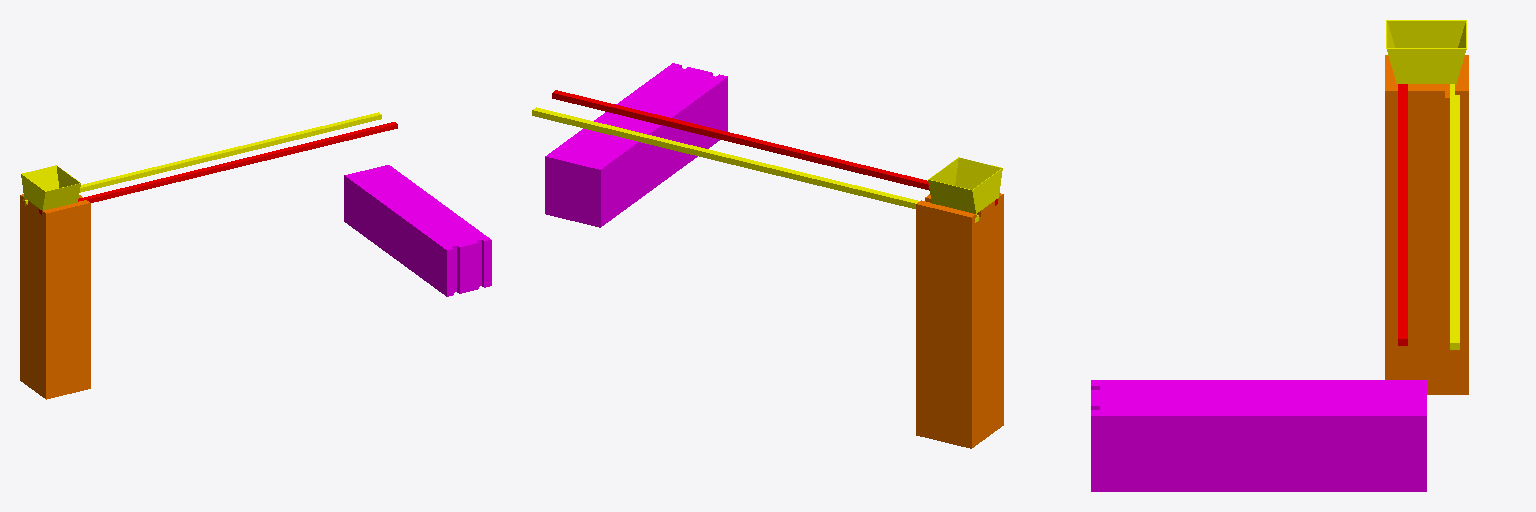
robot.urdf — cart_pendulum:
<?xml version="1.0" ?>
<robot name="cart_pendulum">
  <link name="mount_rail_2_1">
    <visual name="mount_rail_2_1_visual">
      <origin xyz="0 0 0" rpy="0 0 0"/>
      <geometry>
        <mesh filename="meshes/mount_rail_2_1.stl"/>
      </geometry>
      <material name="mount_rail_2_1-material">
        <color rgba="1 0 1 1"/>
      </material>
    </visual>
    <collision name="mount_rail_2_1_collision">
      <origin xyz="0 0 0" rpy="0 0 0"/>
      <geometry>
        <mesh filename="meshes/mount_rail_2_1.stl"/>
      </geometry>
    </collision>
    <inertial>
      <mass value="487.68125"/>
      <inertia ixx="42.722133" iyy="42.721446" izz="5.0806999" ixy="-1.1040928e-15" ixz="0" iyz="-1.5256723e-16"/>
      <origin xyz="0 0 0" rpy="0 0 0"/>
    </inertial>
  </link>
  <link name="rail_1_1">
    <visual name="rail_1_1_visual">
      <origin xyz="0 0 0" rpy="0 0 0"/>
      <geometry>
        <mesh filename="meshes/rail_1_1.stl"/>
      </geometry>
      <material name="rail_1_1-material">
        <color rgba="1 1 0 1"/>
      </material>
    </visual>
    <collision name="rail_1_1_collision">
      <origin xyz="0 0 0" rpy="0 0 0"/>
      <geometry>
        <mesh filename="meshes/rail_1_1.stl"/>
      </geometry>
    </collision>
    <inertial>
      <mass value="4.08"/>
      <inertia ixx="0.0005185" iyy="1.360306" izz="1.3602125" ixy="0" ixz="0" iyz="0"/>
      <origin xyz="-1 0.0125 0" rpy="0 0 0"/>
    </inertial>
  </link>
  <link name="rail_1_2">
    <visual name="rail_1_2_visual">
      <origin xyz="0 0 0" rpy="0 0 0"/>
      <geometry>
        <mesh filename="meshes/rail_1_2.stl"/>
      </geometry>
      <material name="rail_1_2-material">
        <color rgba="1 0 0 1"/>
      </material>
    </visual>
    <collision name="rail_1_2_collision">
      <origin xyz="0 0 0" rpy="0 0 0"/>
      <geometry>
        <mesh filename="meshes/rail_1_2.stl"/>
      </geometry>
    </collision>
    <inertial>
      <mass value="4.08"/>
      <inertia ixx="1.3602125" iyy="1.360306" izz="0.0005185" ixy="0" ixz="0" iyz="0"/>
      <origin xyz="0 0.0125 -1" rpy="0 0 0"/>
    </inertial>
  </link>
  <link name="mount_rail_2_2">
    <visual name="mount_rail_2_2_visual">
      <origin xyz="0 0 0" rpy="0 0 0"/>
      <geometry>
        <mesh filename="meshes/mount_rail_2_2.stl"/>
      </geometry>
      <material name="mount_rail_2_2-material">
        <color rgba="1 0.5 0 1"/>
      </material>
    </visual>
    <collision name="mount_rail_2_2_collision">
      <origin xyz="0 0 0" rpy="0 0 0"/>
      <geometry>
        <mesh filename="meshes/mount_rail_2_2.stl"/>
      </geometry>
    </collision>
    <inertial>
      <mass value="487.68125"/>
      <inertia ixx="42.721446" iyy="5.0806999" izz="42.722133" ixy="1.5256723e-16" ixz="1.1040928e-15" iyz="0"/>
      <origin xyz="0.07 0.47794266 -0.125" rpy="0 0 0"/>
    </inertial>
  </link>
  <link name="cart_2">
    <visual name="cart_2_visual">
      <origin xyz="0 0 0" rpy="0 0 0"/>
      <geometry>
        <mesh filename="meshes/cart_2.stl"/>
      </geometry>
      <material name="cart_2-material">
        <color rgba="1 1 0 1"/>
      </material>
    </visual>
    <collision name="cart_2_collision">
      <origin xyz="0 0 0" rpy="0 0 0"/>
      <geometry>
        <mesh filename="meshes/cart_2.stl"/>
      </geometry>
    </collision>
    <inertial>
      <mass value="1.3341545"/>
      <inertia ixx="0.009385059" iyy="0.01156555" izz="0.009245384" ixy="0" ixz="0" iyz="0"/>
      <origin xyz="0.07 -0.013772027 -0.1" rpy="0 0 0"/>
    </inertial>
  </link>
  <link name="Pendulum_1">
    <visual name="Pendulum_1_visual">
      <origin xyz="0 0 0" rpy="0 0 0"/>
      <geometry>
        <mesh filename="meshes/Pendulum_1.stl"/>
      </geometry>
      <material name="Pendulum_1-material">
        <color rgba="0 1 1 1"/>
      </material>
    </visual>
    <collision name="Pendulum_1_collision">
      <origin xyz="0 0 0" rpy="0 0 0"/>
      <geometry>
        <mesh filename="meshes/Pendulum_1.stl"/>
      </geometry>
    </collision>
    <inertial>
      <mass value="0.044497704"/>
      <inertia ixx="0.0018033039" iyy="1.5292824e-05" izz="0.0017893983" ixy="7.5381068e-10" ixz="-4.0780507e-11" iyz="9.5148226e-05"/>
      <origin xyz="-1.2577758e-07 0.17136626 -0.04552224" rpy="0 0 0"/>
    </inertial>
  </link>
  <link name="Pendulum_bob_1">
    <visual name="Pendulum_bob_1_visual">
      <origin xyz="0 0 0" rpy="0 0 0"/>
      <geometry>
        <mesh filename="meshes/Pendulum_bob_1.stl"/>
      </geometry>
      <material name="Pendulum_bob_1-material">
        <color rgba="0 1 0 1"/>
      </material>
    </visual>
    <collision name="Pendulum_bob_1_collision">
      <origin xyz="0 0 0" rpy="0 0 0"/>
      <geometry>
        <mesh filename="meshes/Pendulum_bob_1.stl"/>
      </geometry>
    </collision>
    <inertial>
      <mass value="4.4453536"/>
      <inertia ixx="0.0044453536" iyy="0.0044453536" izz="0.0044453536" ixy="0" ixz="0" iyz="0"/>
      <origin xyz="0 0 0" rpy="0 0 0"/>
    </inertial>
  </link>
  <joint name="Fastened_1" type="fixed">
    <origin xyz="0.125 0.07 0.47794266" rpy="1.5707963 0 0"/>
    <parent link="mount_rail_2_1"/>
    <child link="rail_1_1"/>
  </joint>
  <joint name="Fastened_2" type="fixed">
    <origin xyz="0.125 -0.07 0.47794266" rpy="1.5707963 0 1.5707963"/>
    <parent link="mount_rail_2_1"/>
    <child link="rail_1_2"/>
  </joint>
  <joint name="Fastened_3" type="fixed">
    <origin xyz="0 0 -2" rpy="3.1415927 0 0"/>
    <parent link="rail_1_2"/>
    <child link="mount_rail_2_2"/>
  </joint>
  <joint name="dof_jt_rail_cart" type="prismatic">
    <origin xyz="0 0.025 -2" rpy="3.1415927 0 0"/>
    <parent link="rail_1_2"/>
    <child link="cart_2"/>
    <axis xyz="0 0 -1"/>
    <limit effort="1" velocity="1" lower="-0.1" upper="0.1"/>
  </joint>
  <joint name="dof_cart_pendulum" type="revolute">
    <origin xyz="0.085 0.0594 -0.1" rpy="-0 1.5707963 0"/>
    <parent link="cart_2"/>
    <child link="Pendulum_1"/>
    <axis xyz="0 0 -1"/>
    <limit effort="1" velocity="1" lower="-6.2831853" upper="6.2831853"/>
  </joint>
  <joint name="Fastened_4" type="fixed">
    <origin xyz="9.7144515e-17 0.60866025 -0.058" rpy="1.5707963 0 0"/>
    <parent link="Pendulum_1"/>
    <child link="Pendulum_bob_1"/>
  </joint>
</robot>

--- Facts derived from the render (not from the file) ---
3 views of the same robot in one strip: view 1: azimuth 30°, elevation 25°; view 2: azimuth 150°, elevation 25°; view 3: azimuth 270°, elevation 25° (orthographic).
Robot: cart_pendulum — 7 links, 6 joints (1 revolute, 1 prismatic, 4 fixed); root link mount_rail_2_1; default pose: every joint at zero.
Visible links, largest first — view 1: mount_rail_2_2, mount_rail_2_1, rail_1_2, rail_1_1, cart_2; view 2: mount_rail_2_2, mount_rail_2_1, rail_1_1, rail_1_2, cart_2; view 3: mount_rail_2_1, mount_rail_2_2, cart_2, rail_1_2, rail_1_1.
Link boxes in pixels (left/top/right/bottom): mount_rail_2_2: left=20, top=194, right=90, bottom=399; mount_rail_2_1: left=344, top=165, right=491, bottom=296; rail_1_2: left=39, top=122, right=397, bottom=214; rail_1_1: left=23, top=112, right=381, bottom=205; cart_2: left=21, top=165, right=80, bottom=210; mount_rail_2_2: left=916, top=193, right=1003, bottom=448; mount_rail_2_1: left=545, top=63, right=727, bottom=227; rail_1_1: left=532, top=107, right=978, bottom=222; rail_1_2: left=552, top=90, right=997, bottom=205; cart_2: left=928, top=157, right=1002, bottom=214; mount_rail_2_1: left=1091, top=380, right=1426, bottom=491; mount_rail_2_2: left=1385, top=55, right=1468, bottom=394; cart_2: left=1386, top=20, right=1466, bottom=83; rail_1_2: left=1398, top=84, right=1407, bottom=345; rail_1_1: left=1450, top=84, right=1459, bottom=349.
Size in the robot's own frame: 2 by 1.12 by 1.11 metres.
7 mesh visuals loaded from 7 distinct referenced files (7 binary STL).